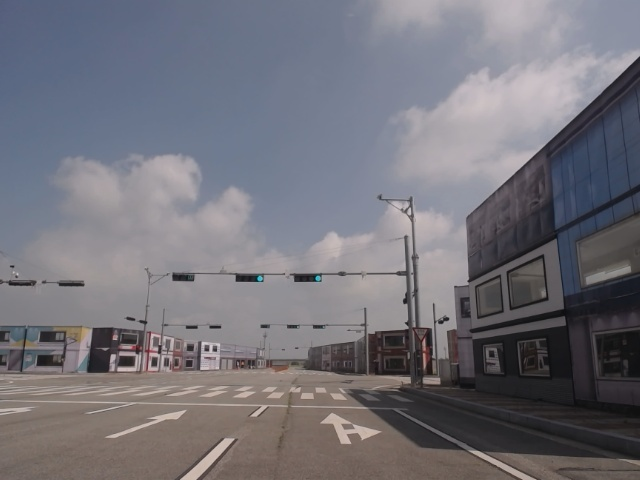straight_green_4: (294, 274, 323, 283), (236, 274, 264, 283)
